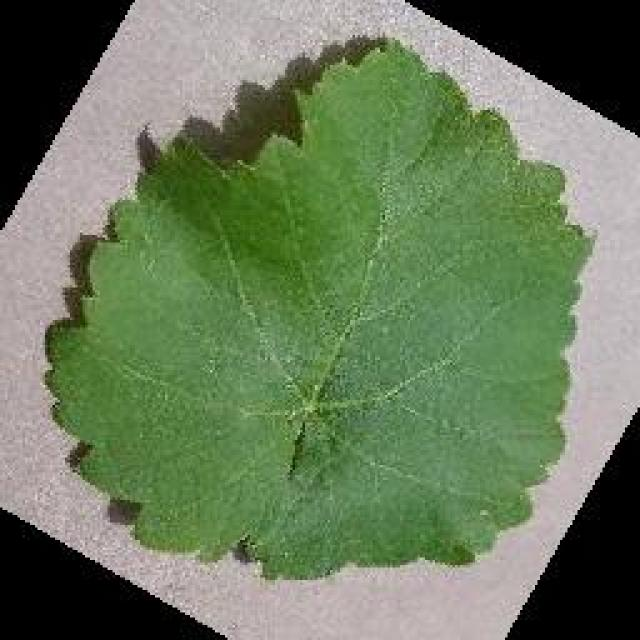Grape___healthy: (50, 42, 588, 575)
